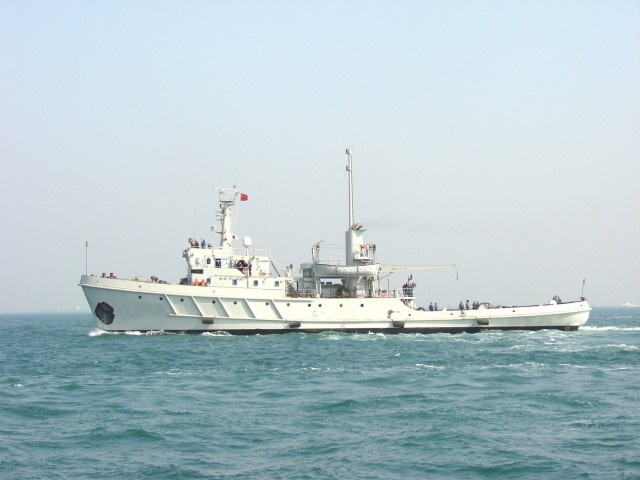warship: (74, 179, 596, 339)
